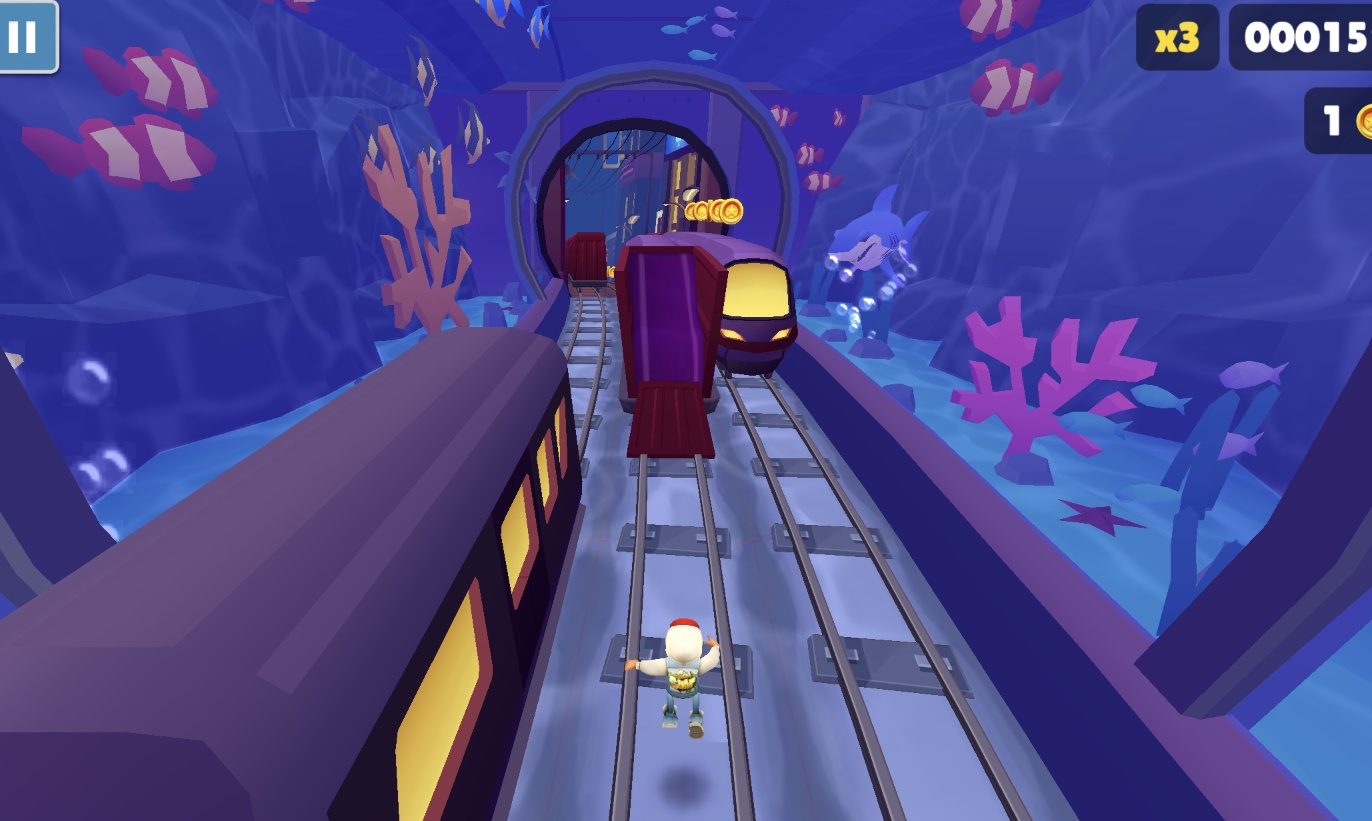train: (0, 320, 578, 821), (612, 233, 724, 463), (715, 239, 802, 376), (561, 231, 609, 294)
